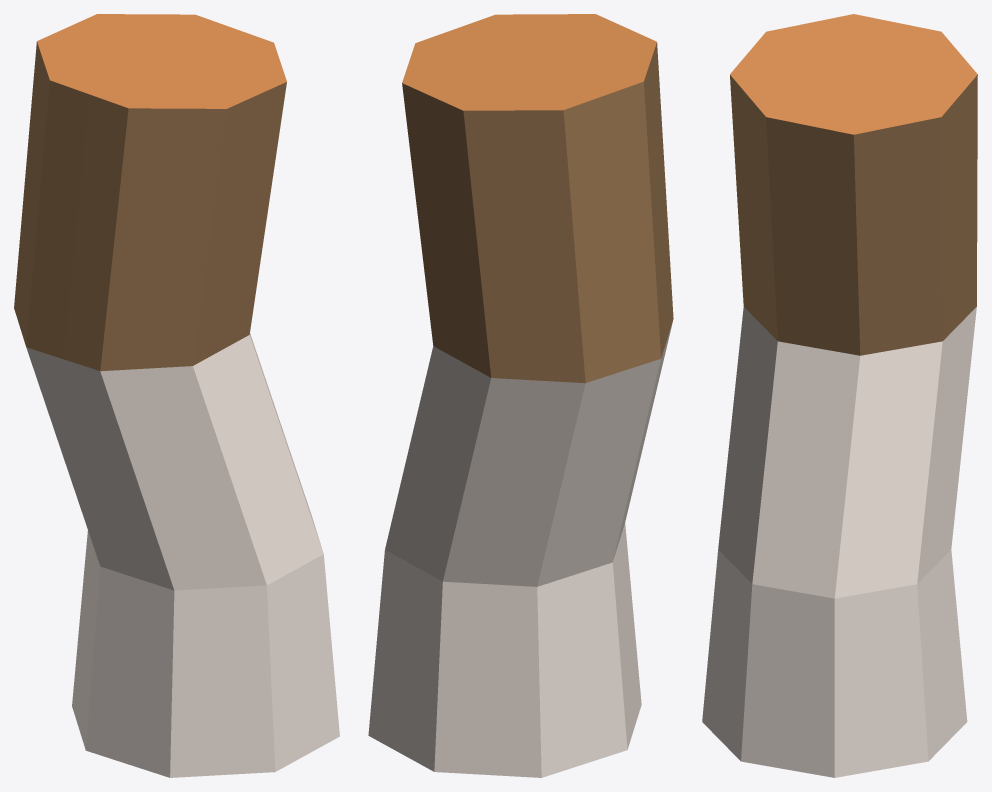
The model's file is cigarette1.fbx.
The picture shows the model from 3 angles, left to right: view 1: azimuth 30°, elevation 25°; view 2: azimuth 150°, elevation 25°; view 3: azimuth 270°, elevation 25°; orthographic projection. The views are drawn at different scales.
Visible parts, largest first — view 1: Cylinder.003; view 2: Cylinder.003; view 3: Cylinder.003.
Boxes of the visible parts, x1=… form: Cylinder.003: x1=14, y1=14, x2=339, y2=777; Cylinder.003: x1=368, y1=14, x2=673, y2=777; Cylinder.003: x1=702, y1=14, x2=977, y2=777.
Size of the model in its own units: 173 by 400 by 151.
